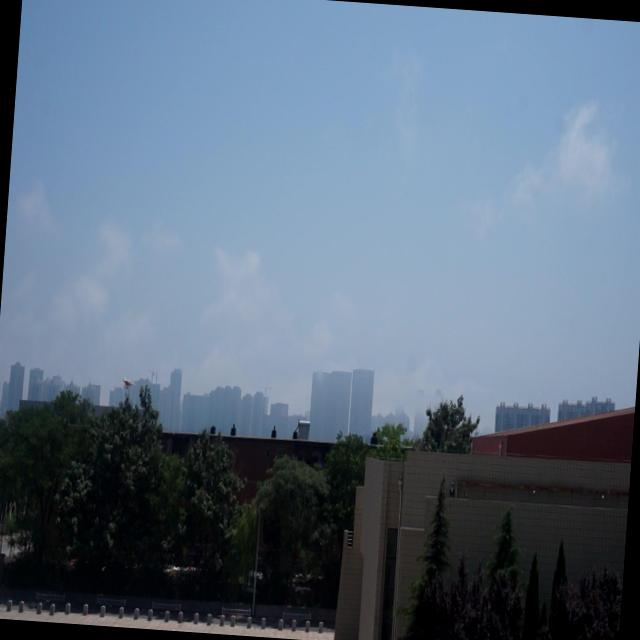drone: (120, 373, 132, 391)
